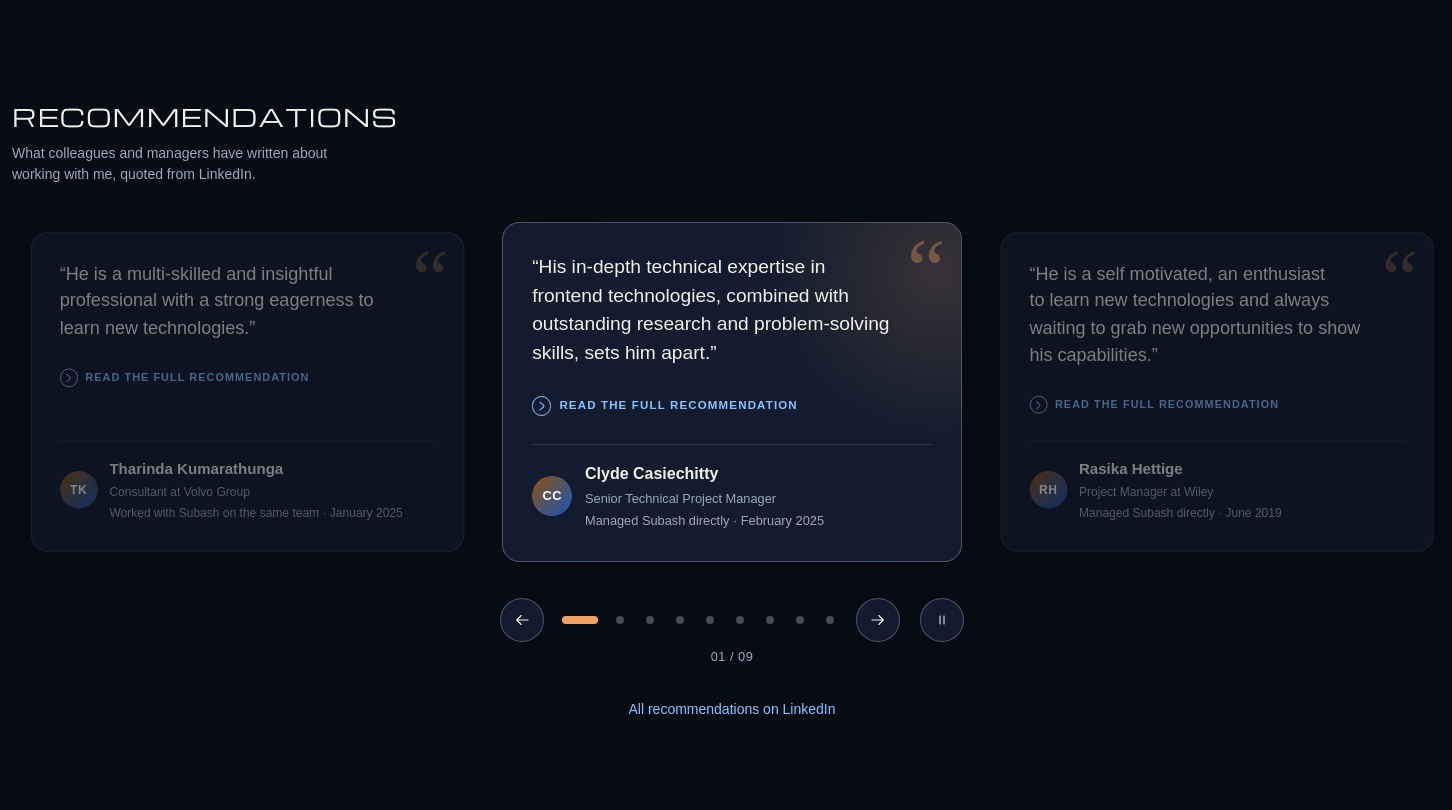
Test case: Recommendations › can pause and restart the automatic rotation
Click the button named "Pause automatic rotation": point(942, 620) [920,598,964,642]
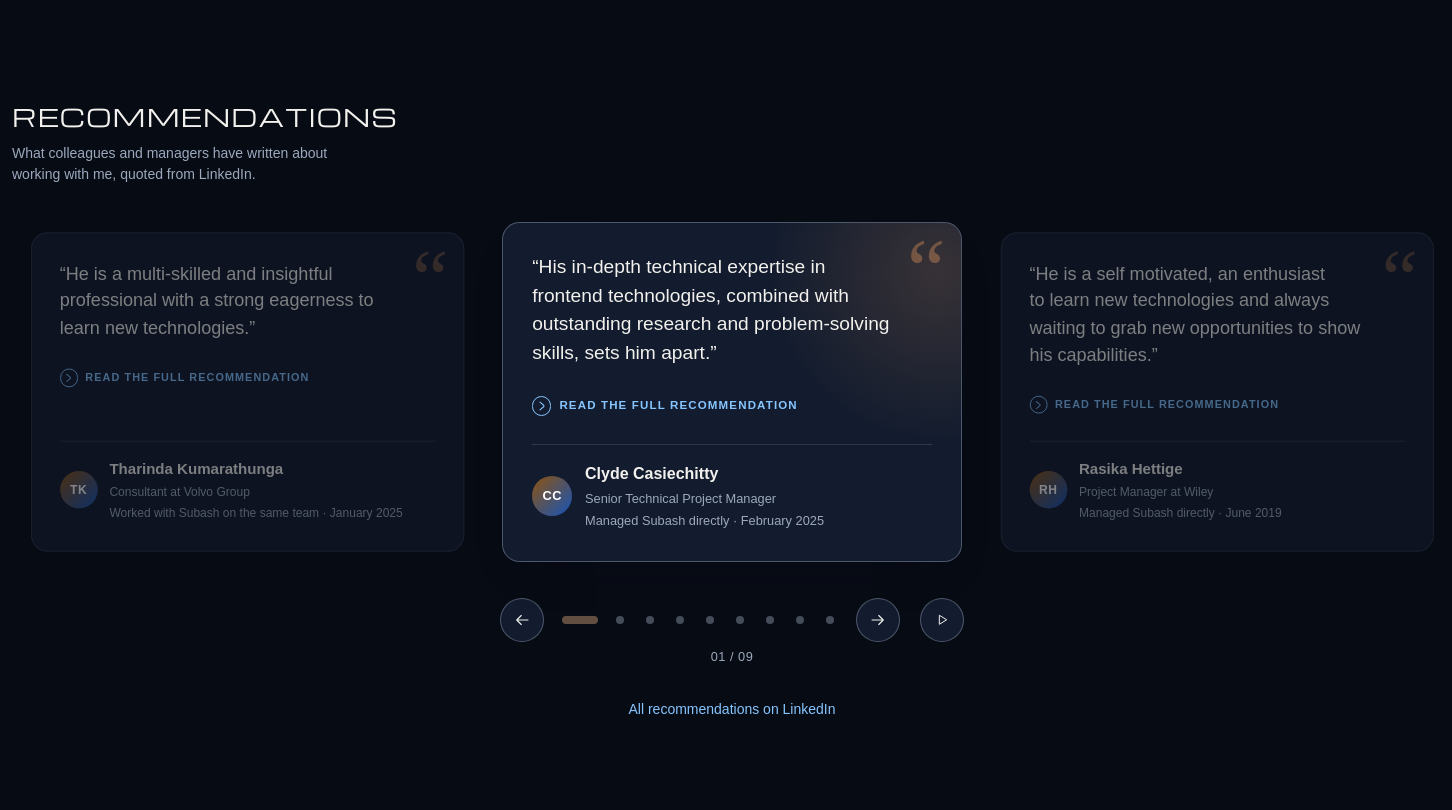
Expected: the button named "Start automatic rotation" is shown, [920,598,964,642]
Expected: the element with class "rec-dot-fill" is gone
